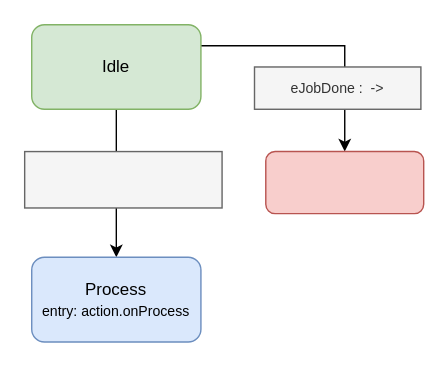
This 448x367 diagram has some shape labels left out. The shapes that lost their labels are listed below. From the top down, each one's centre as x and y in pixels, then its label:
At [122,179]: "eProcessMessage : -> (input $msg)".
At [344,182]: "JobDone".
